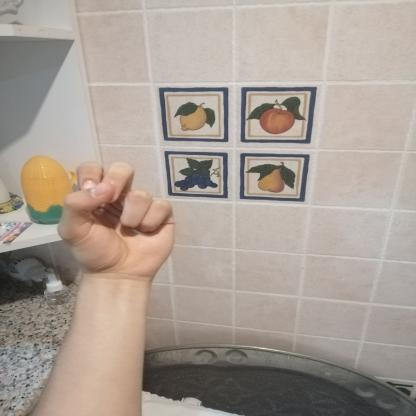QAAF: (47, 152, 192, 292)
